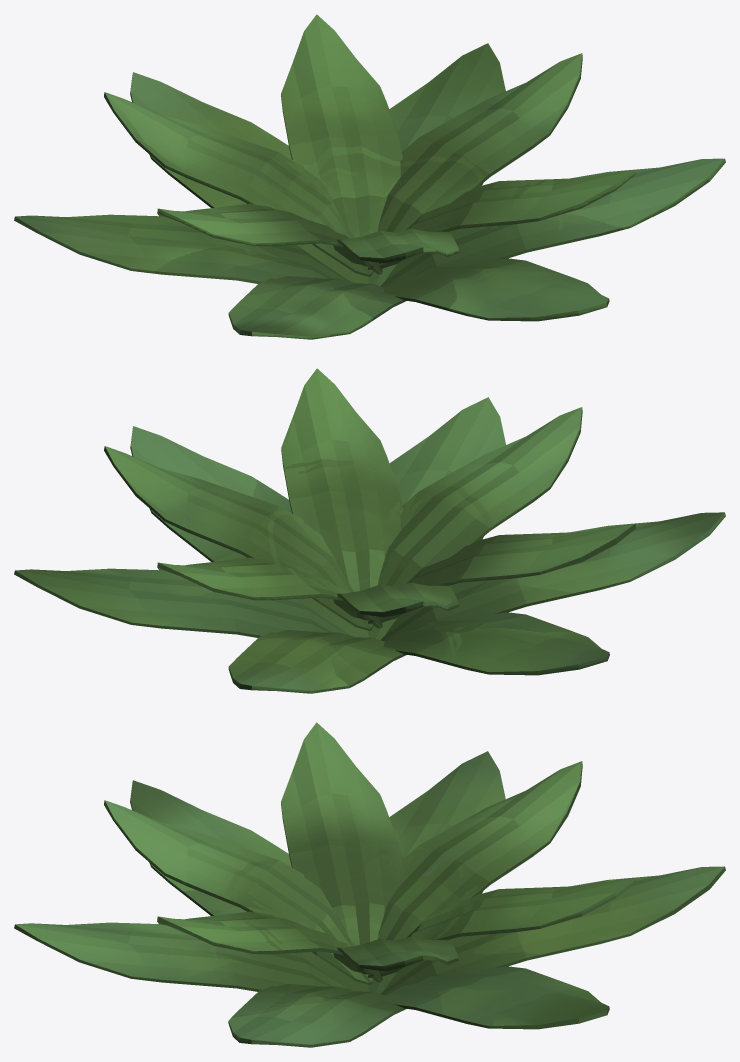
The model's file is succulent.fbx.
The picture shows the model from 3 angles, top to bottom: view 1: azimuth 30°, elevation 25°; view 2: azimuth 150°, elevation 25°; view 3: azimuth 270°, elevation 25°; orthographic projection.
Visible parts, largest first — view 1: succulent; view 2: succulent; view 3: succulent.
Part boxes in pixels (x1,y1,x2,y2): succulent: (14, 14, 725, 339); succulent: (14, 368, 725, 693); succulent: (14, 722, 725, 1047).
Size of the model in its own units: 795 by 218 by 826.
